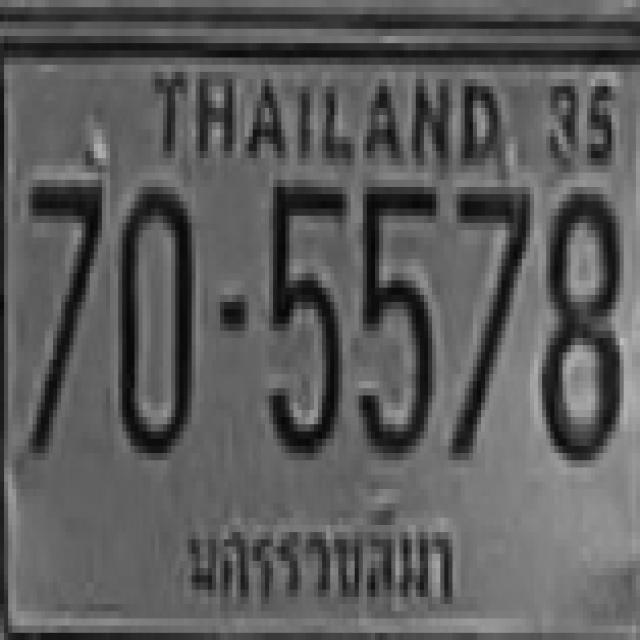0: (116, 180, 190, 453)
5: (355, 180, 432, 453), (265, 180, 342, 453)
7: (448, 180, 526, 453), (28, 173, 98, 453)
8: (538, 187, 616, 453)
NakhonRatchasima: (178, 494, 468, 622)
